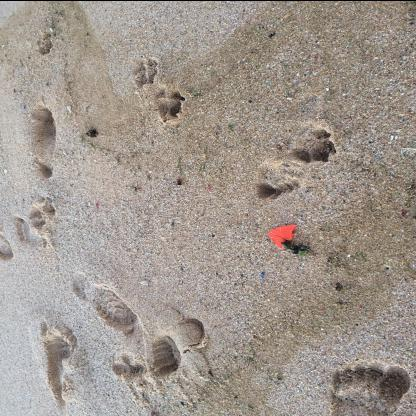plastik: (268, 223, 296, 249)
